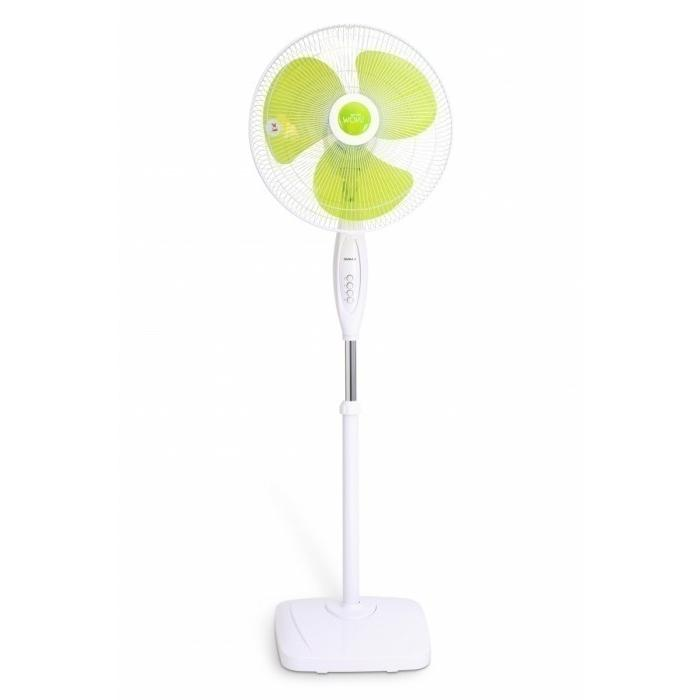fan: (231, 0, 465, 675)
